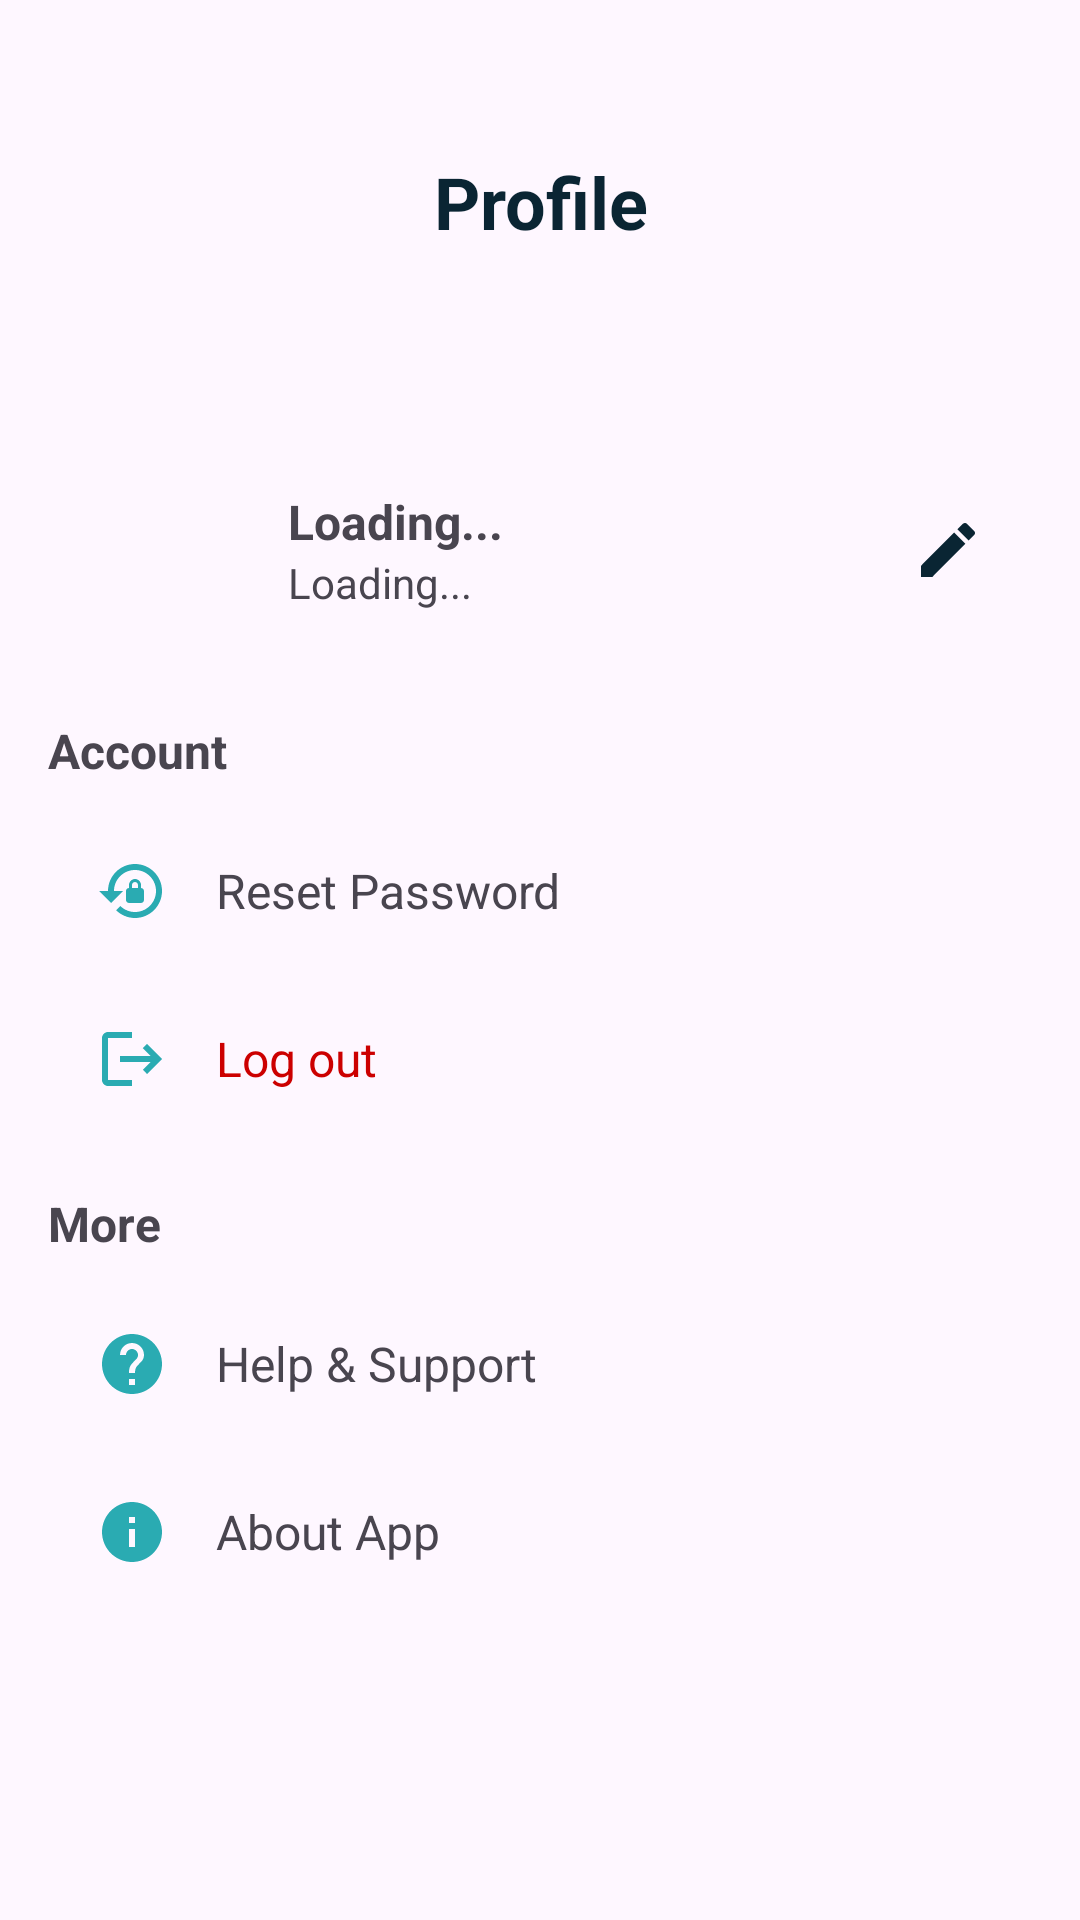

Icon click points for this 1080*1920 phone screenshot, format (x,y):
Edit Profile: (948,550)
